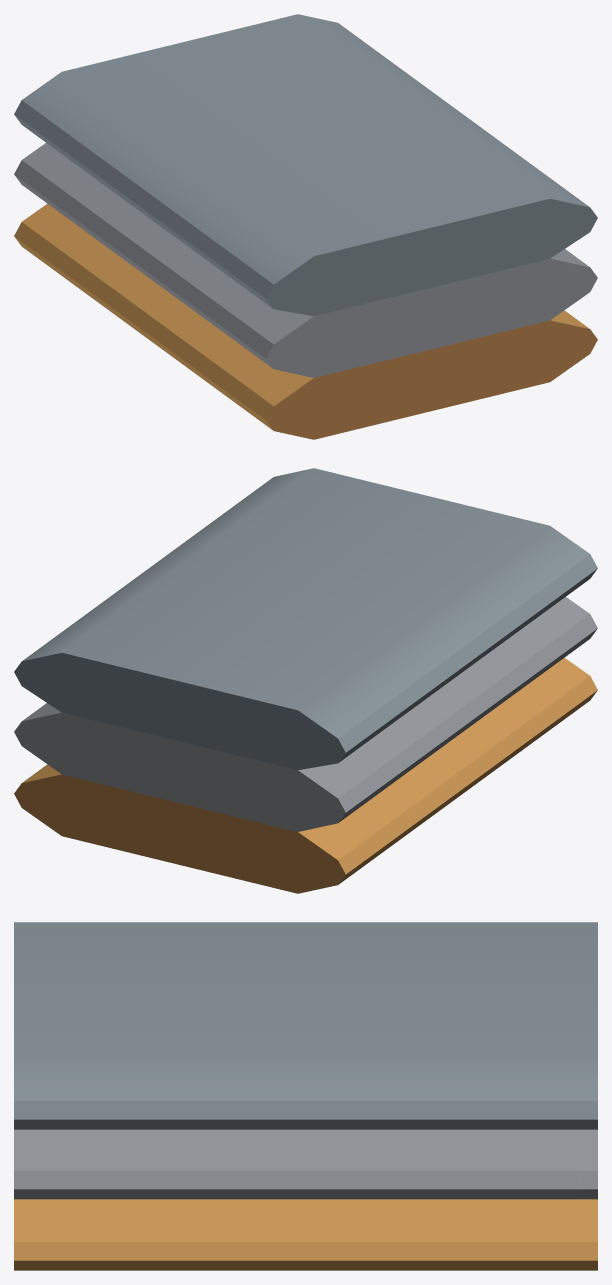
The model's file is Cloth3.fbx.
The picture shows the model from 3 angles, top to bottom: view 1: azimuth 30°, elevation 25°; view 2: azimuth 150°, elevation 25°; view 3: azimuth 270°, elevation 25°; orthographic projection. The views are drawn at different scales.
Parts seen in each view (by area): view 1: Cloth3; view 2: Cloth3; view 3: Cloth3.
Part boxes in pixels (bbox=[...]): Cloth3: bbox=[14, 14, 597, 439]; Cloth3: bbox=[14, 468, 597, 893]; Cloth3: bbox=[14, 922, 597, 1270].
Size of the model in its own units: 0.8171 by 0.4318 by 1.08.
Materials: 1 (1 with a texture image).
